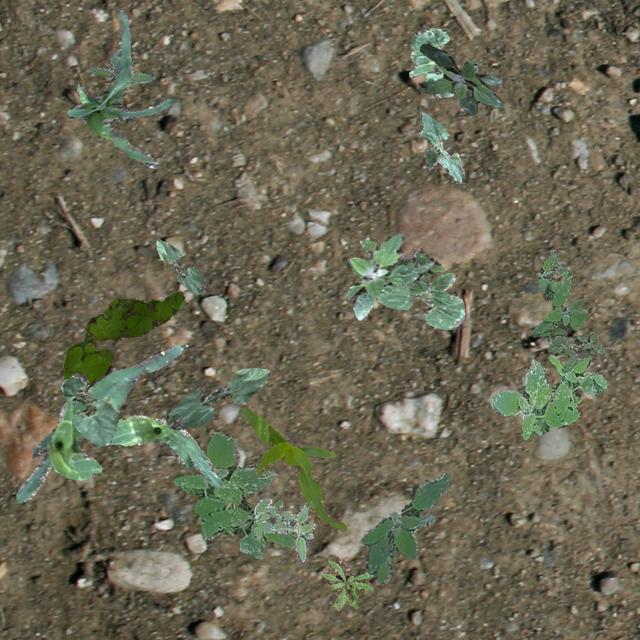crop: (15, 344, 182, 502), (66, 9, 174, 168), (240, 406, 346, 530), (92, 414, 222, 486), (164, 366, 270, 428), (378, 272, 463, 328), (59, 372, 118, 444), (419, 110, 464, 182), (408, 27, 452, 96), (156, 238, 204, 294)
weed: (172, 430, 294, 558), (62, 289, 184, 386), (490, 348, 606, 438), (361, 472, 448, 584), (530, 248, 604, 372), (346, 232, 442, 318), (418, 42, 502, 114), (252, 498, 316, 562), (322, 554, 372, 608), (88, 48, 154, 82)
